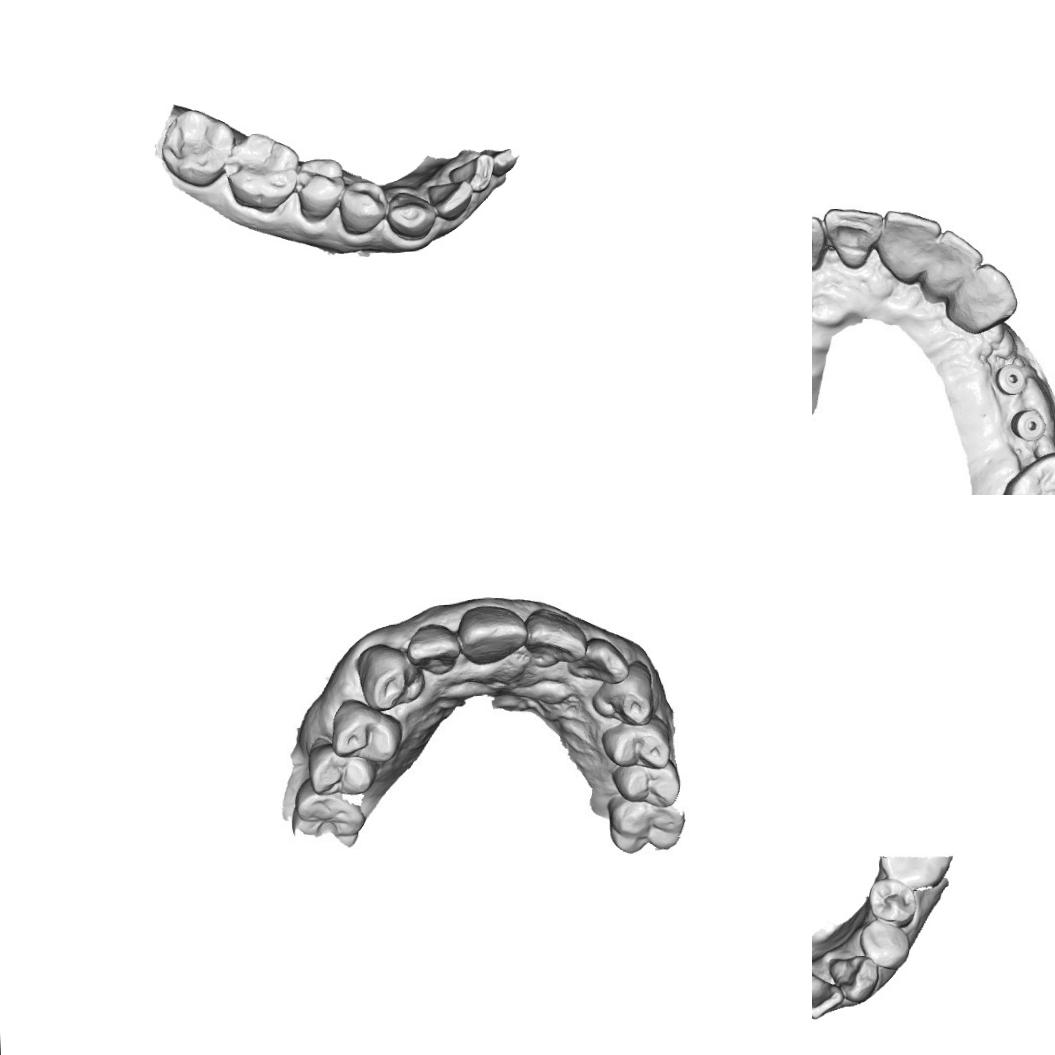canine: (943, 262, 1018, 336), (352, 643, 430, 711), (589, 661, 660, 725), (385, 188, 438, 242), (827, 951, 882, 1003)
implant: (1010, 402, 1049, 443), (994, 360, 1028, 398)
incisor: (457, 602, 525, 666), (880, 208, 939, 281), (924, 232, 980, 306), (825, 207, 884, 272), (522, 606, 585, 666), (565, 636, 632, 686), (404, 622, 460, 675), (426, 177, 475, 222), (448, 153, 496, 195), (812, 966, 844, 1020), (812, 210, 829, 276)
molar: (222, 130, 302, 213), (158, 108, 238, 188), (285, 776, 368, 845), (606, 796, 686, 856), (997, 449, 1055, 495)
premolar: (329, 696, 406, 766), (306, 738, 374, 801), (599, 718, 677, 769), (294, 156, 347, 223), (608, 762, 683, 808), (861, 876, 918, 928), (337, 180, 388, 236), (859, 914, 911, 968)
